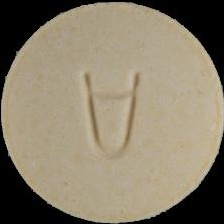65862-044: (0, 0, 224, 224)
